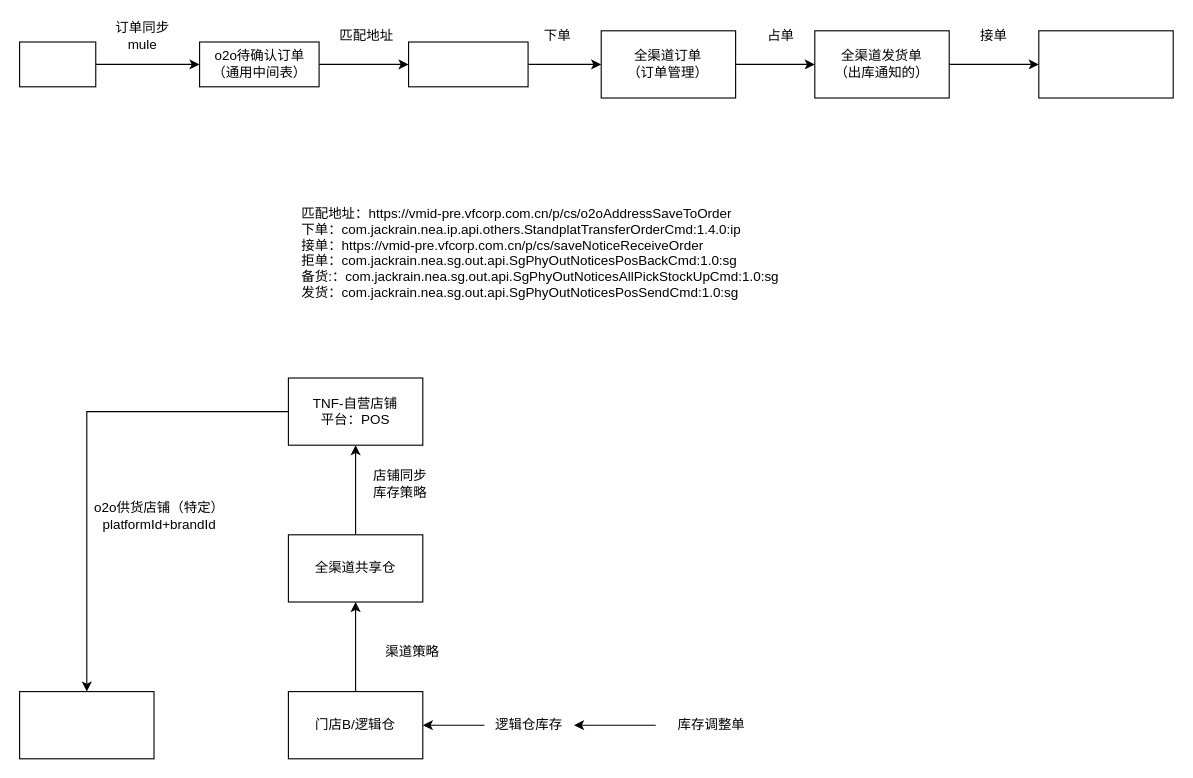
This 1193x778 diagram has some shape labels left out. Each missing label, with the centre of its shape:
ttpos: the point at 57,64
已匹配地址订单: the point at 467,64
门店A: the point at 86,724
